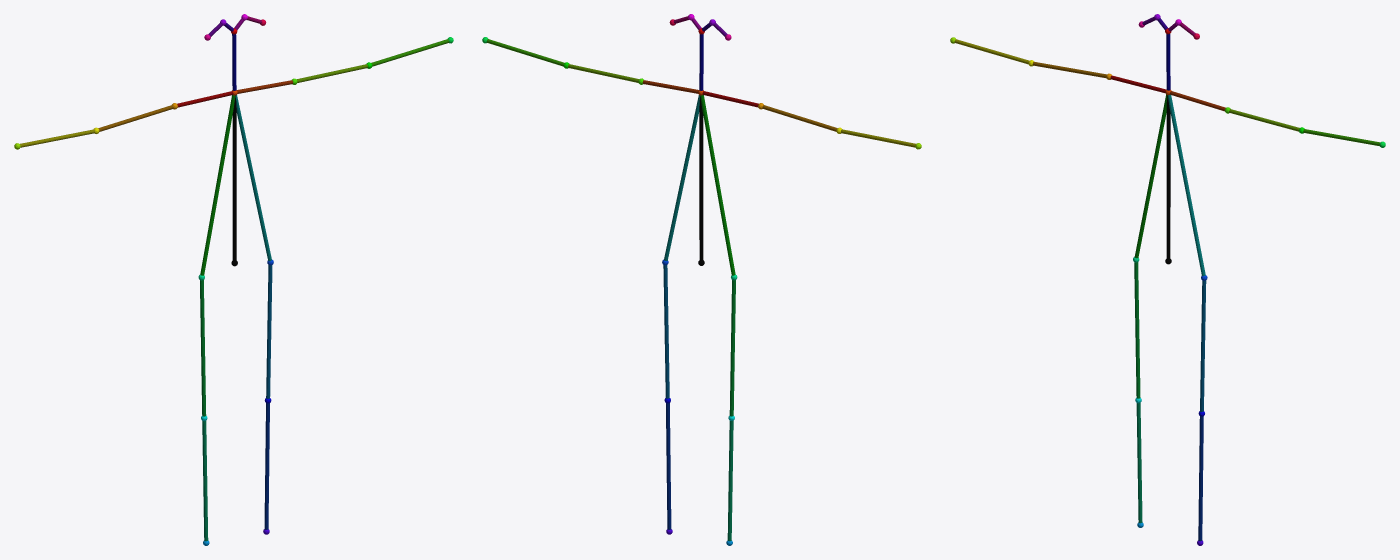
Rendered from color_tpose.fbx.
The picture shows the model from 3 angles, left to right: view 1: azimuth 30°, elevation 25°; view 2: azimuth 150°, elevation 25°; view 3: azimuth 330°, elevation 25°; orthographic projection.
Parts seen in each view (by area): view 1: COLOR_RIG; view 2: COLOR_RIG; view 3: COLOR_RIG.
Part boxes in pixels (x1,y1,x2,y2): COLOR_RIG: (14, 14, 453, 545); COLOR_RIG: (482, 14, 921, 545); COLOR_RIG: (950, 14, 1385, 545).
Bounding box in the file's own units: 1.51 × 1.73 × 0.0204.
